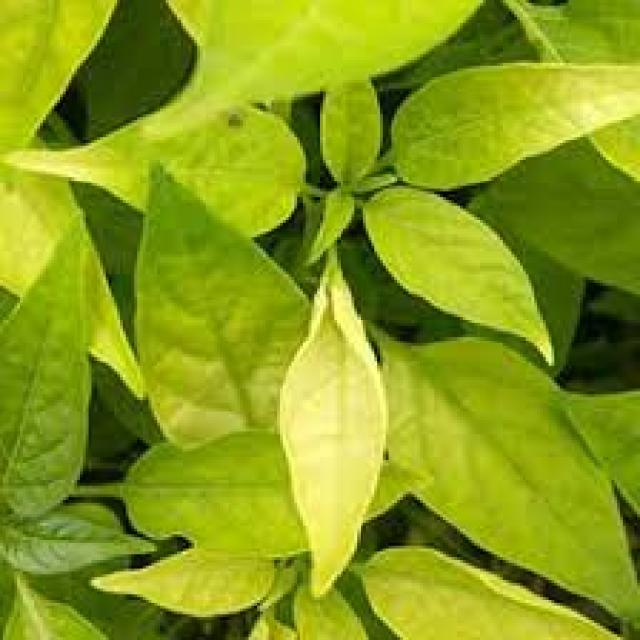Rust: (4, 82, 315, 273), (325, 177, 588, 362), (266, 229, 378, 619)
